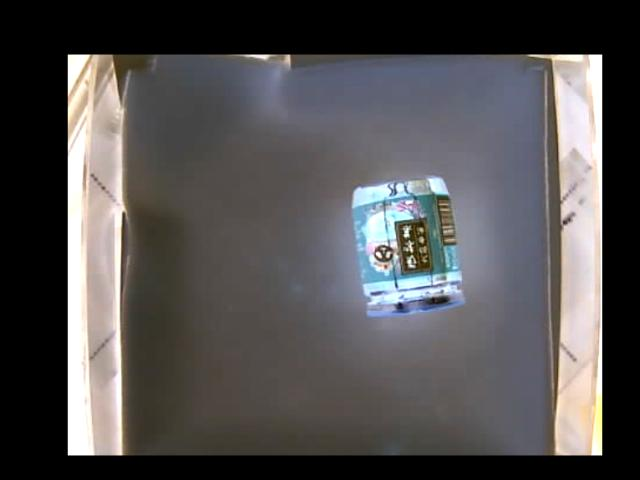Bottle: (352, 177, 469, 318)
